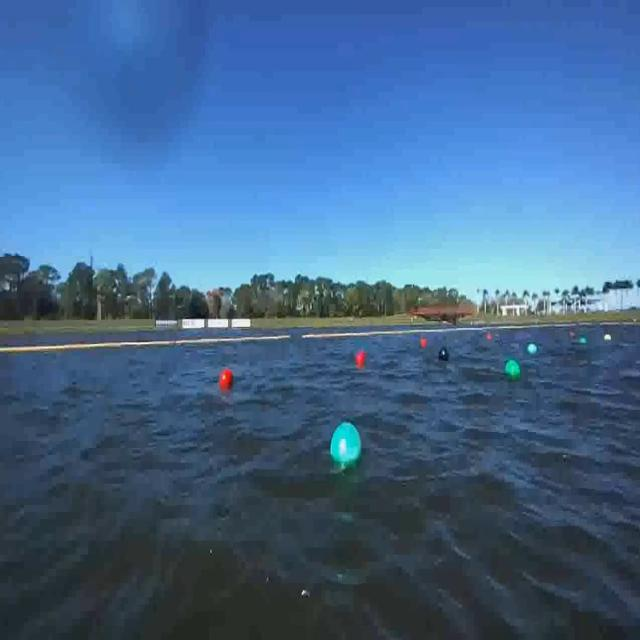black-buoy: (439, 347, 451, 361)
green-buoy: (332, 424, 363, 464), (504, 357, 519, 380), (530, 343, 540, 356)
red-buoy: (220, 367, 233, 390), (356, 351, 366, 367), (421, 339, 428, 350)
